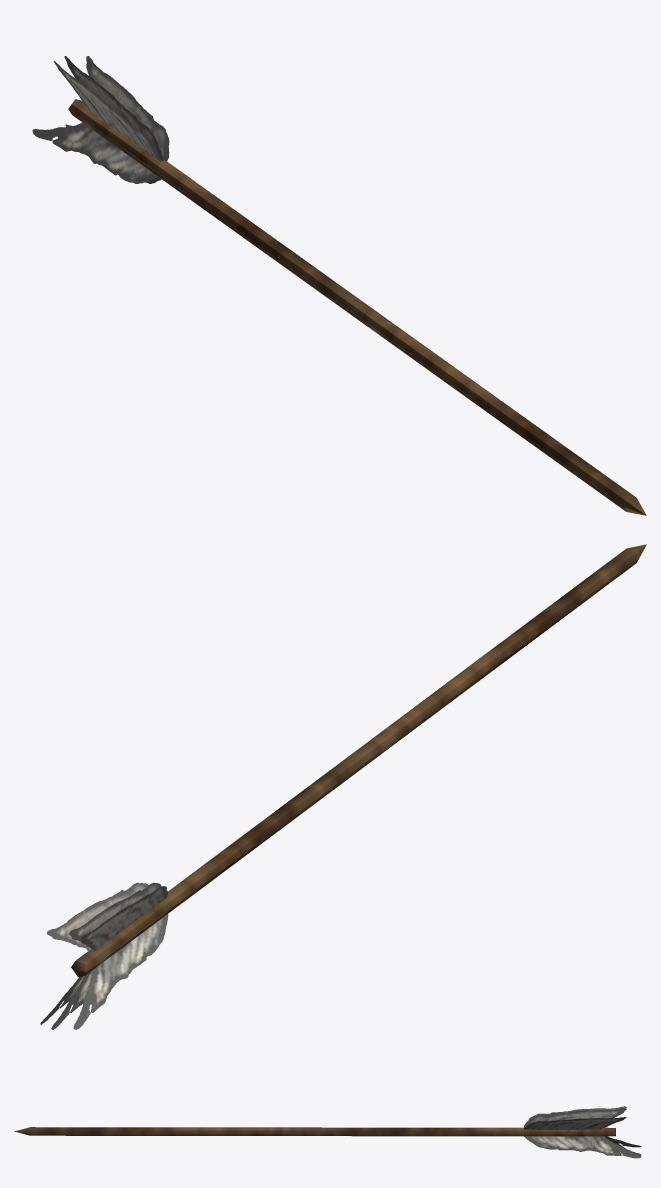
File: bow_projectile.fbx
3 views of the same model, one above another, from view 1: azimuth 30°, elevation 25°; view 2: azimuth 150°, elevation 25°; view 3: azimuth 270°, elevation 25° (orthographic). The views are drawn at different scales.
Parts seen in each view (by area): view 1: polySurface20; view 2: polySurface20; view 3: polySurface20.
Boxes of the visible parts, x1,y1,x2,y2 form: polySurface20: (32,56,646,515); polySurface20: (40,544,646,1029); polySurface20: (14,1106,641,1158).
Bounding box in the file's own units: 0.0908 × 0.1825 × 1.37.
1 material, 1 textured.
